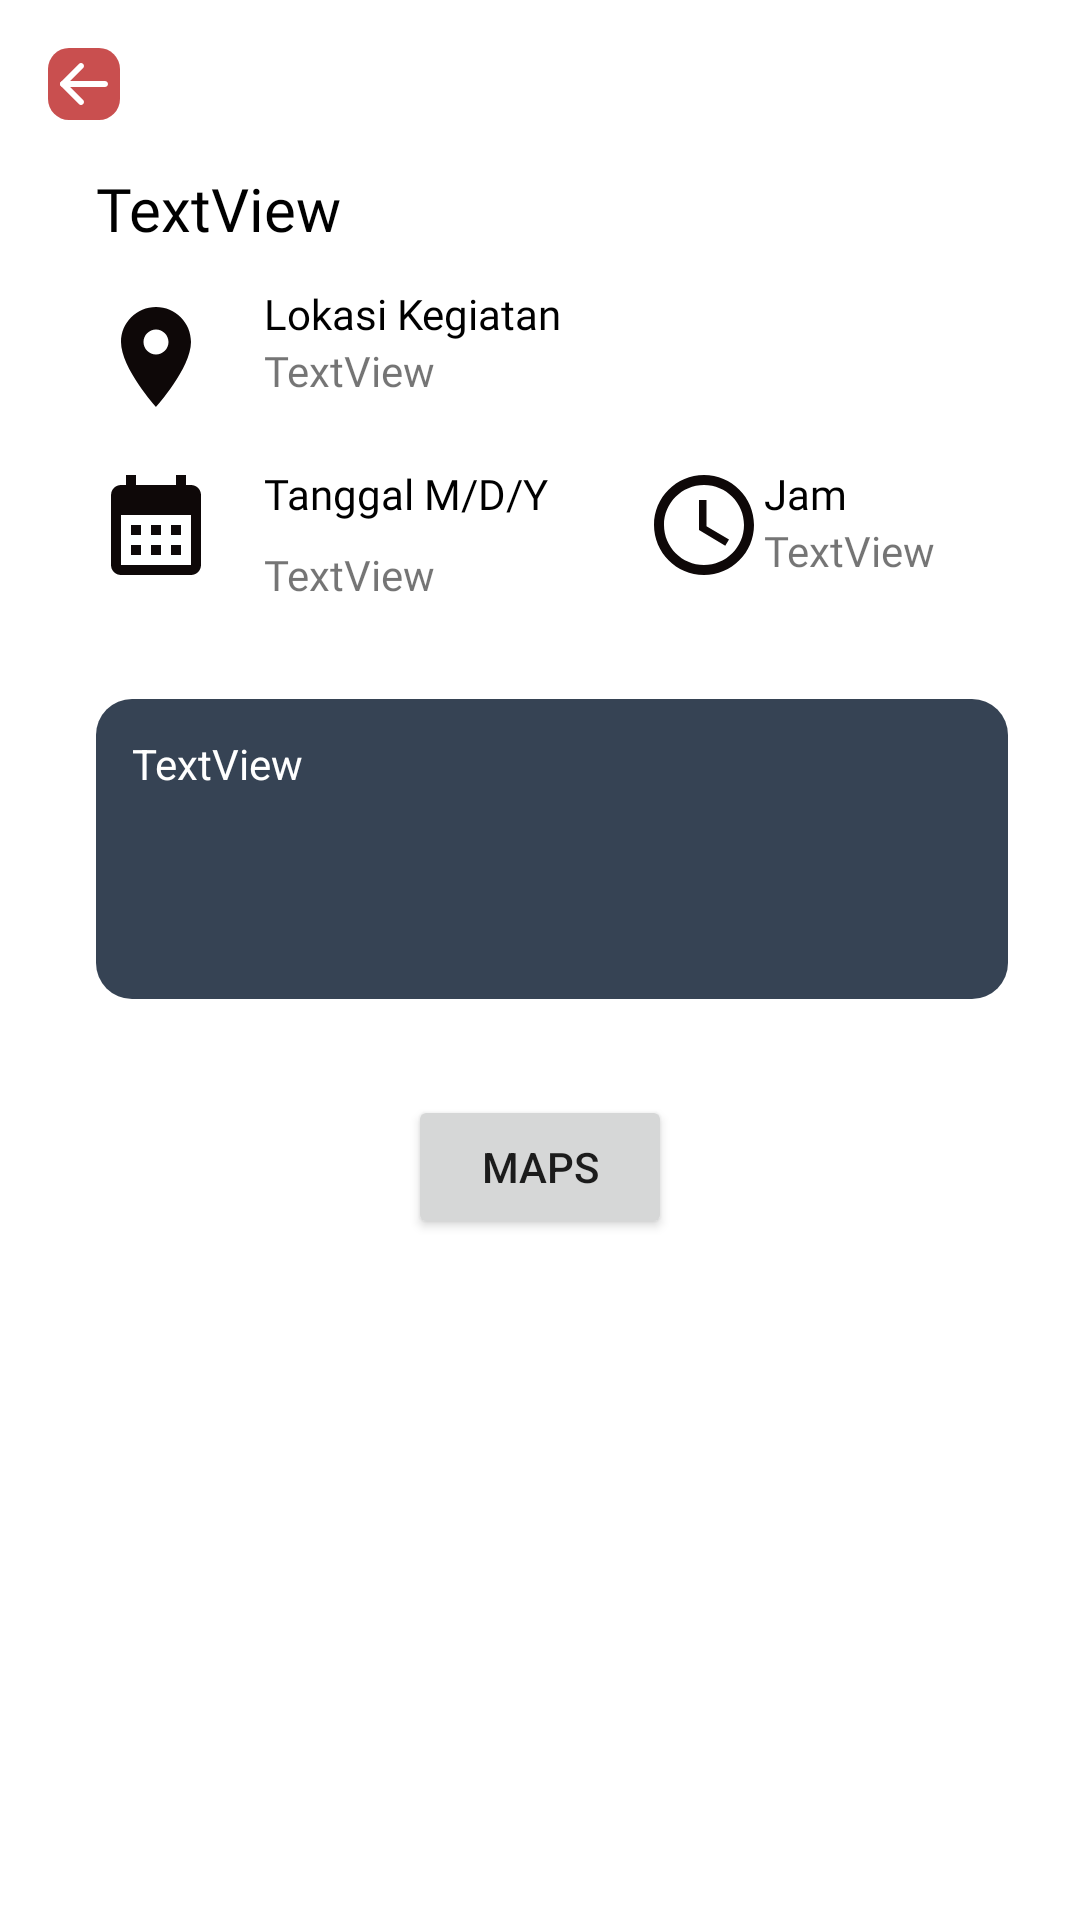

Icons on this 1080×1920 Android screen, each with its box as (x1, y1, x2, y2):
access time: (654, 475, 754, 575)
calendar month: (111, 475, 201, 575)
location blak: (121, 307, 191, 407)
